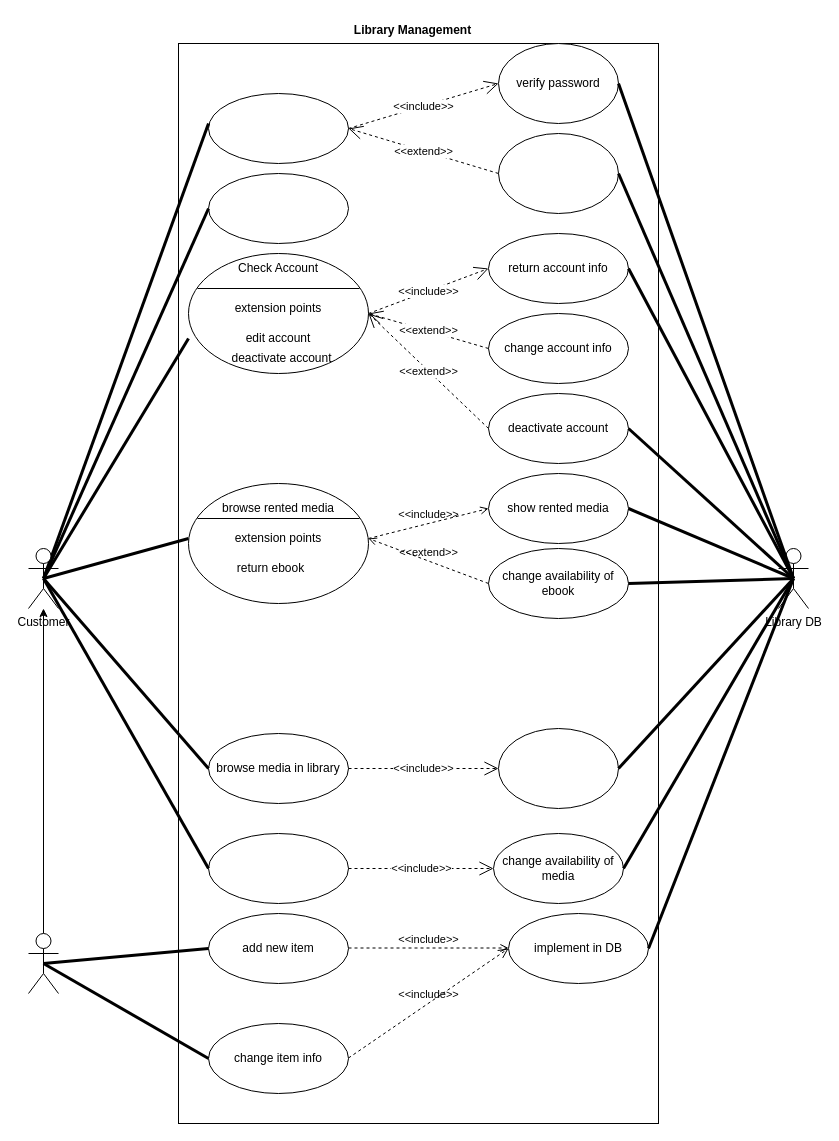
The diagram is 839 pixels wide and 1141 high, and some of its shapes have lost their labels. The centre of each missing label's shape, as x and y in pixels:
create account: [278,208]
display login error: [558,173]
Librarian: [43,963]
log in: [278,128]
reserve media: [278,868]
return list of media: [558,768]
